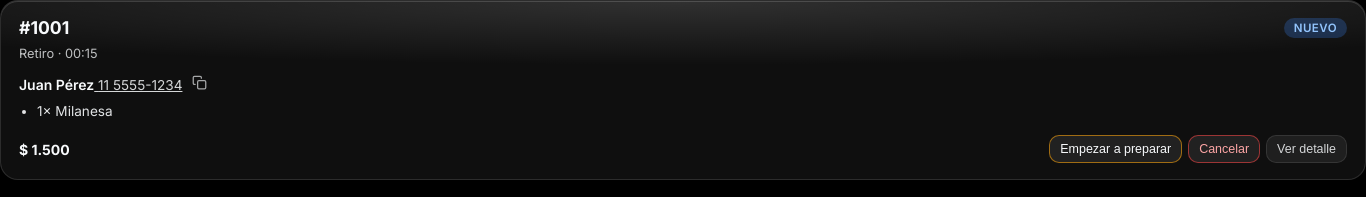
Test: copiar el número de WhatsApp en el panel de pedidos › copia el número en formato internacional (54…) y confirma la copia
Click the button named "Copiar el número de WhatsApp" at (200, 82), box top-left (186, 69), bottom-right (212, 95)
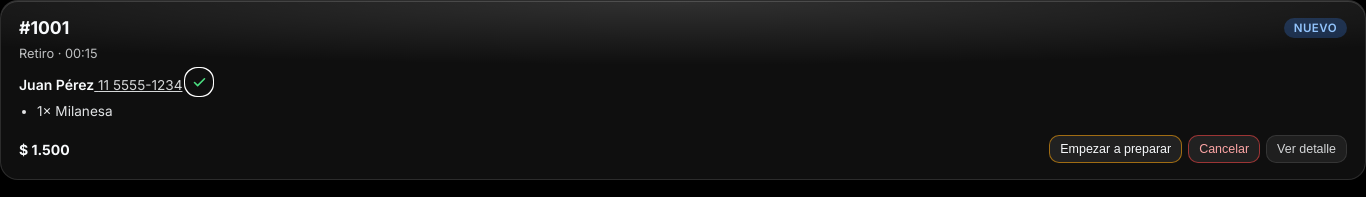
Check: the button named "Número copiado" is shown, box top-left (186, 69), bottom-right (212, 95)
